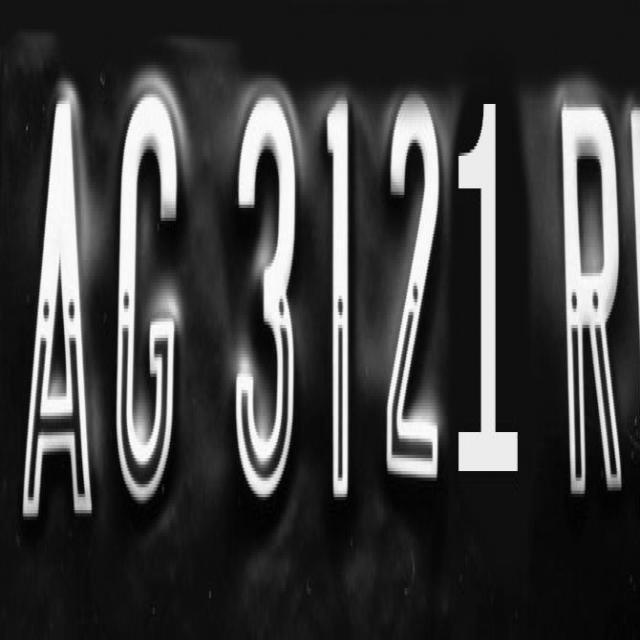1: (458, 88, 510, 493), (321, 90, 366, 507)
2: (378, 88, 444, 501)
3: (234, 66, 298, 514)
A: (15, 76, 96, 518)
G: (98, 71, 185, 507)
R: (556, 103, 622, 501)
